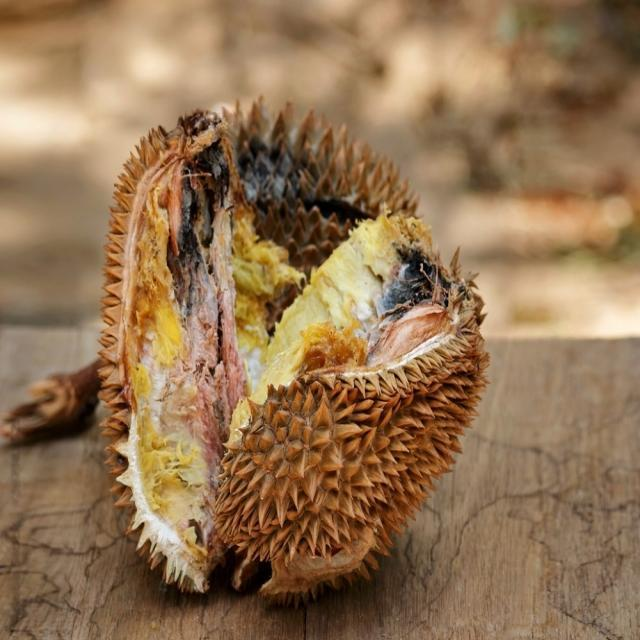defective: (94, 90, 494, 600)
